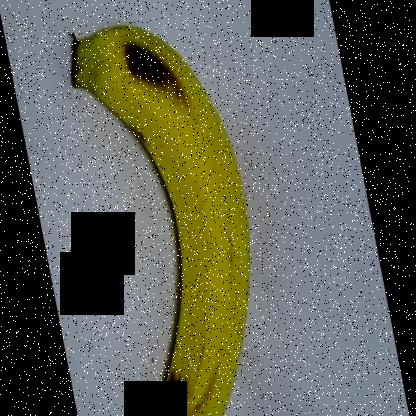freshripe: (60, 14, 270, 415)
